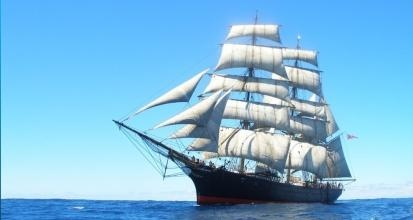fanchuan: (110, 7, 358, 202)
